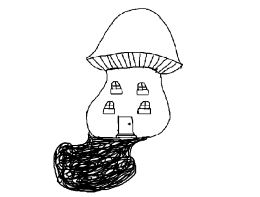closed_window: (132, 98, 160, 115), (130, 79, 154, 96), (106, 79, 126, 97), (99, 99, 120, 116)
door: (115, 112, 137, 143)
roof: (81, 3, 191, 74)
shadow: (47, 135, 148, 194)
wall: (83, 62, 174, 139)
